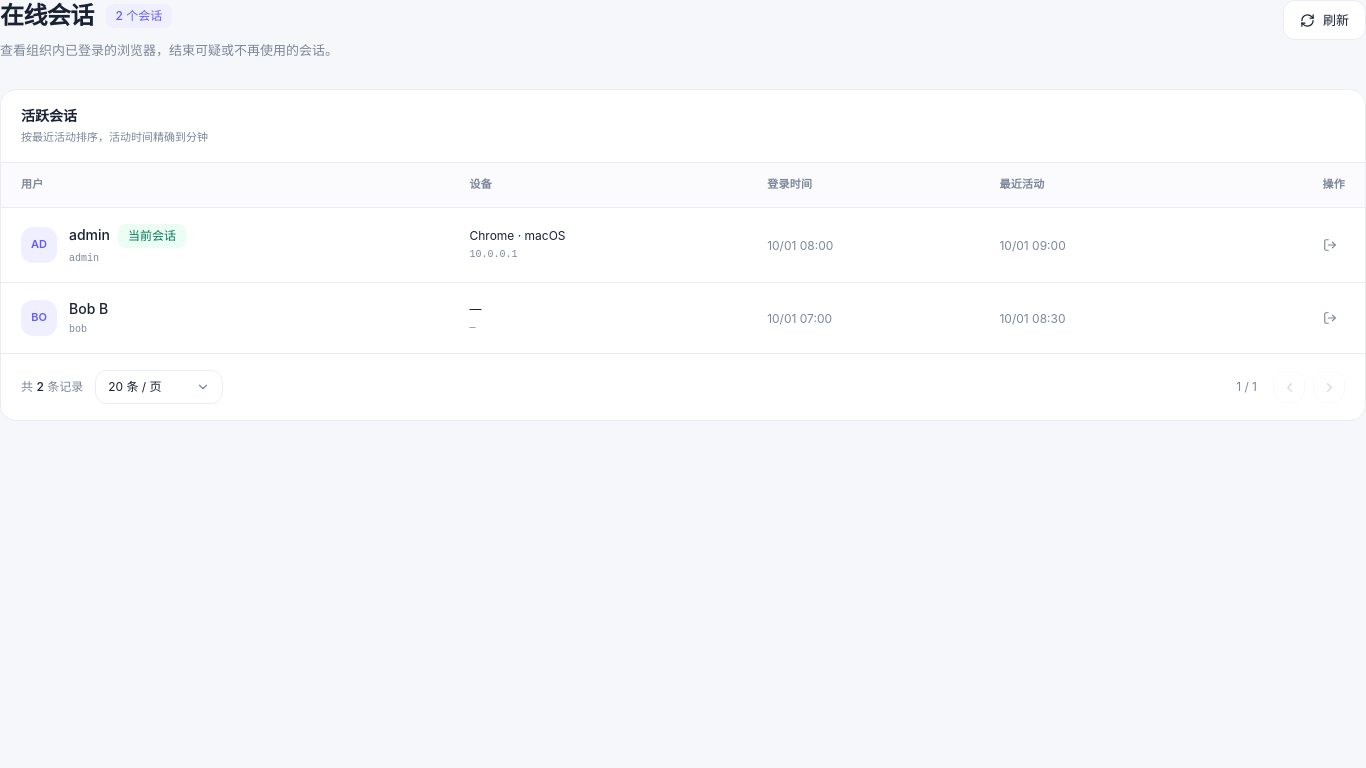
sessions view › keeps the dialog open with the reason when ending fails
Click the button named "结束 Bob B 的会话" at (1330, 318), box [1315, 305, 1345, 331]
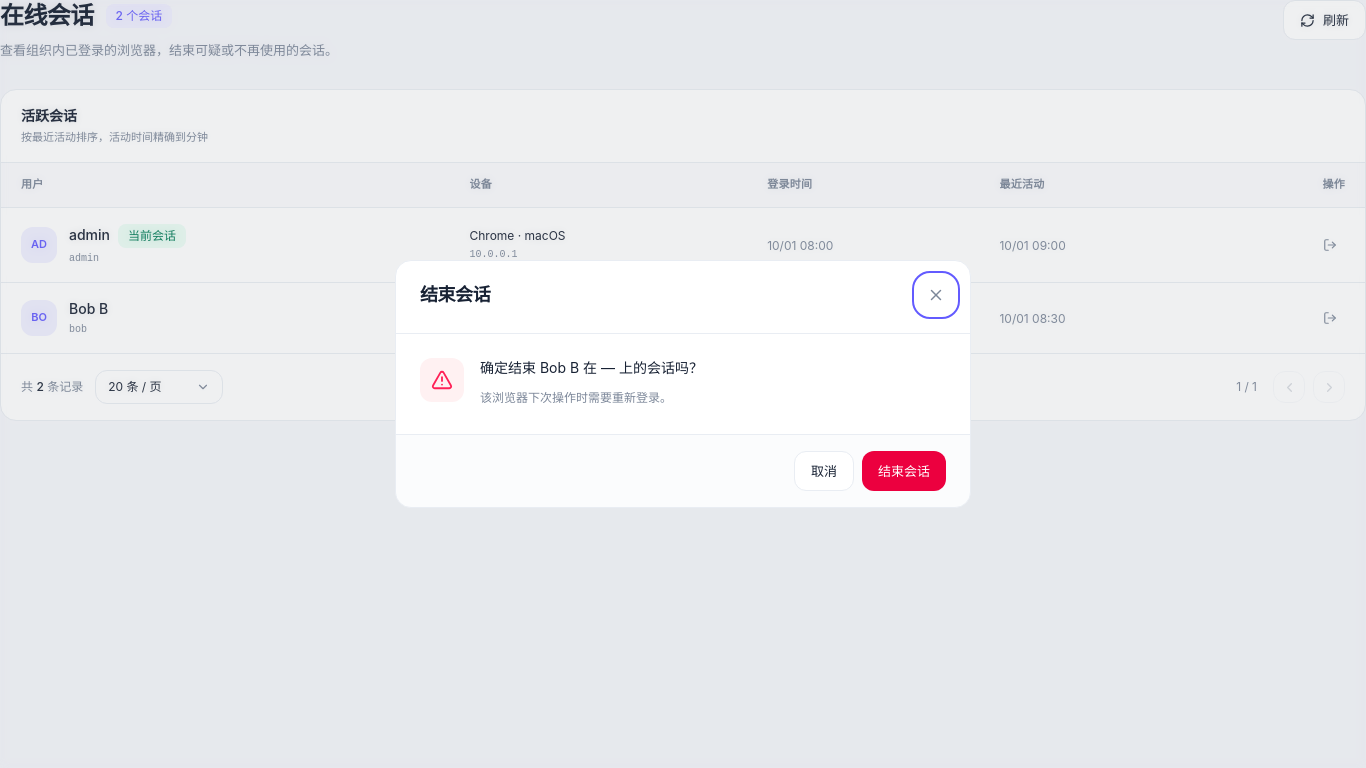
Click the button "结束会话" at (904, 471), box [862, 451, 946, 491]
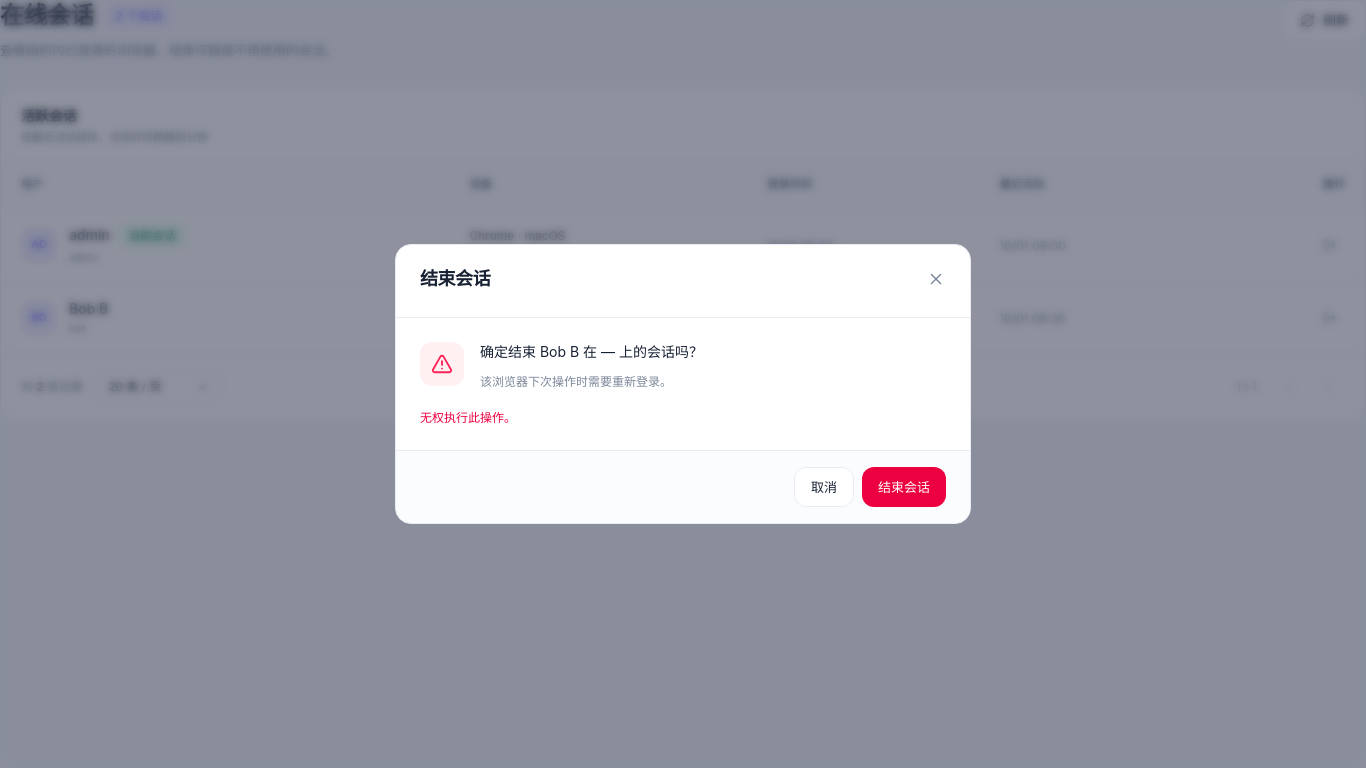
Check: the message "无权执行此操作。" is shown, box [420, 410, 516, 425]
